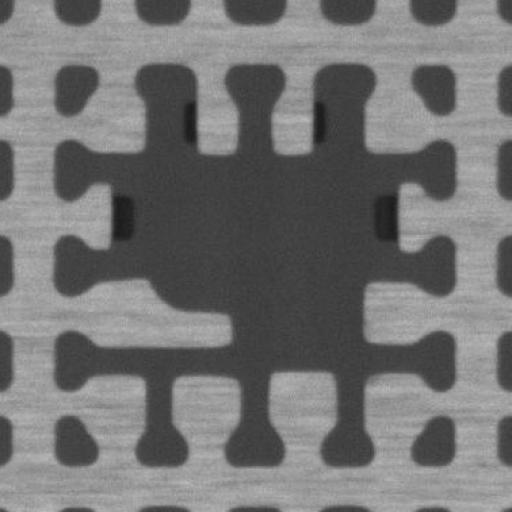NO_DIE: (62, 68, 450, 464)
